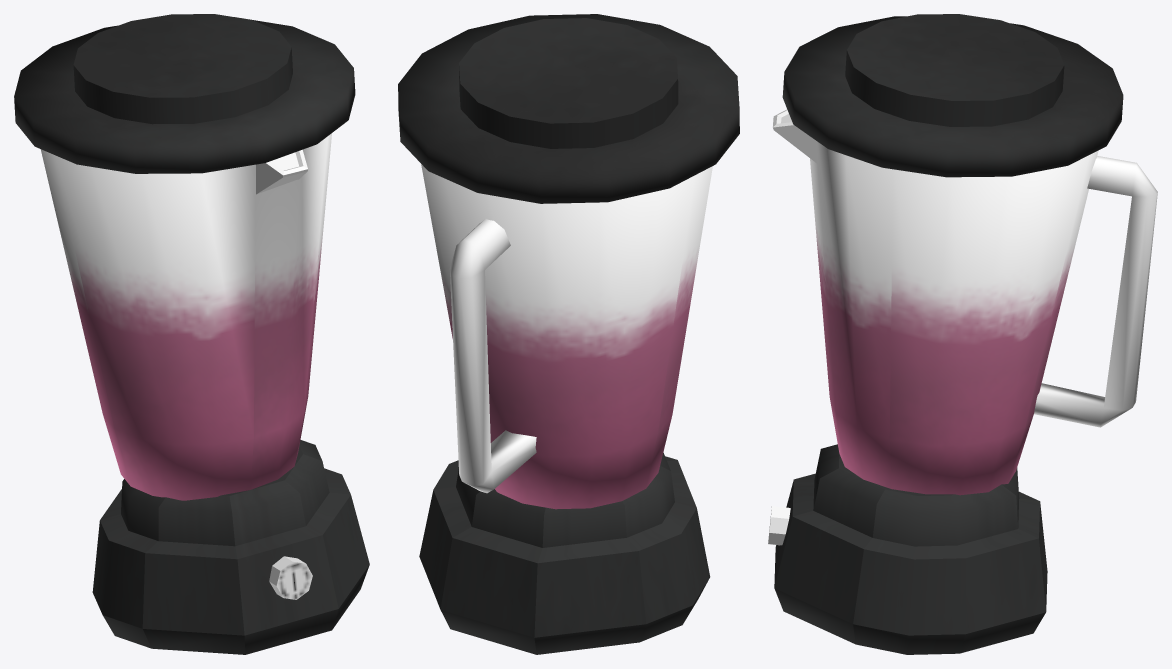
File: H_Blender.fbx
3 views of the same model, side by side, from view 1: azimuth 30°, elevation 25°; view 2: azimuth 150°, elevation 25°; view 3: azimuth 270°, elevation 25° (orthographic).
Parts seen in each view (by area): view 1: Blender; view 2: Blender; view 3: Blender.
Part boxes in pixels (x1=…): Blender: x1=14, y1=14, x2=369, y2=654; Blender: x1=398, y1=14, x2=739, y2=654; Blender: x1=768, y1=14, x2=1157, y2=654.
Size of the model in its own units: 31.76 by 55.64 by 35.81.
